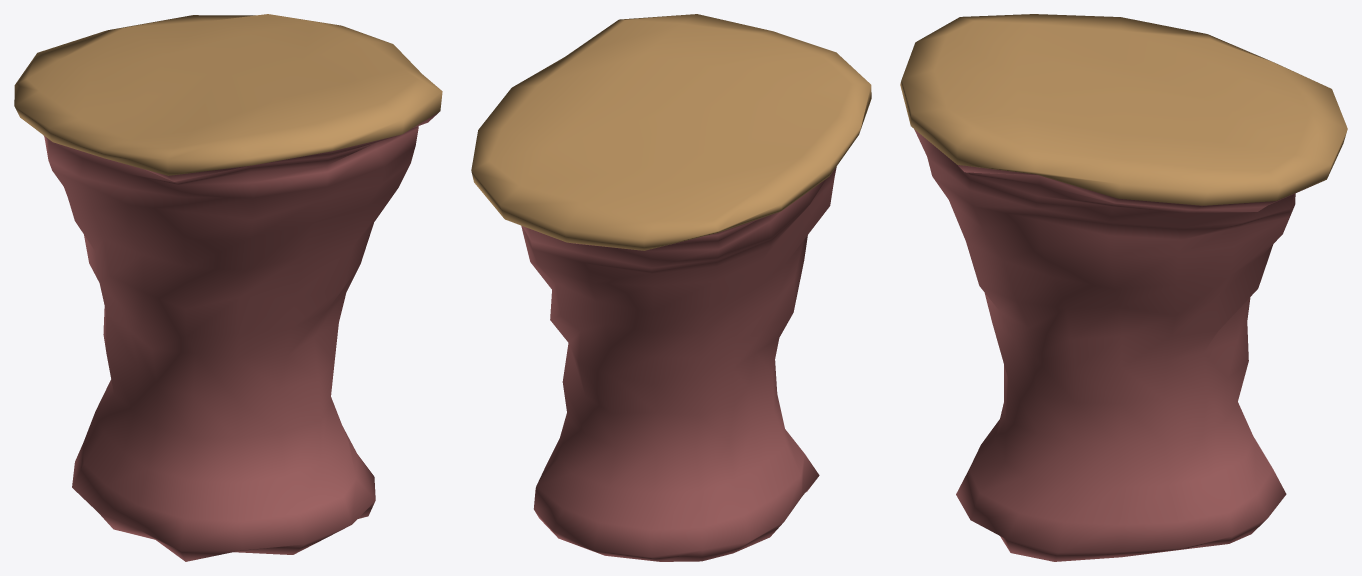
The model's file is BigStoneStructure.fbx.
The picture shows the model from 3 angles, left to right: view 1: azimuth 30°, elevation 25°; view 2: azimuth 150°, elevation 25°; view 3: azimuth 270°, elevation 25°; orthographic projection. The views are drawn at different scales.
Parts seen in each view (by area): view 1: Cube; view 2: Cube; view 3: Cube.
Boxes of the visible parts, box(x1,y1,x2,y2) form: Cube: box(14, 14, 442, 561); Cube: box(471, 14, 871, 561); Cube: box(900, 14, 1347, 561).
Bounding box in the file's own units: 1529 × 1931 × 1737.
